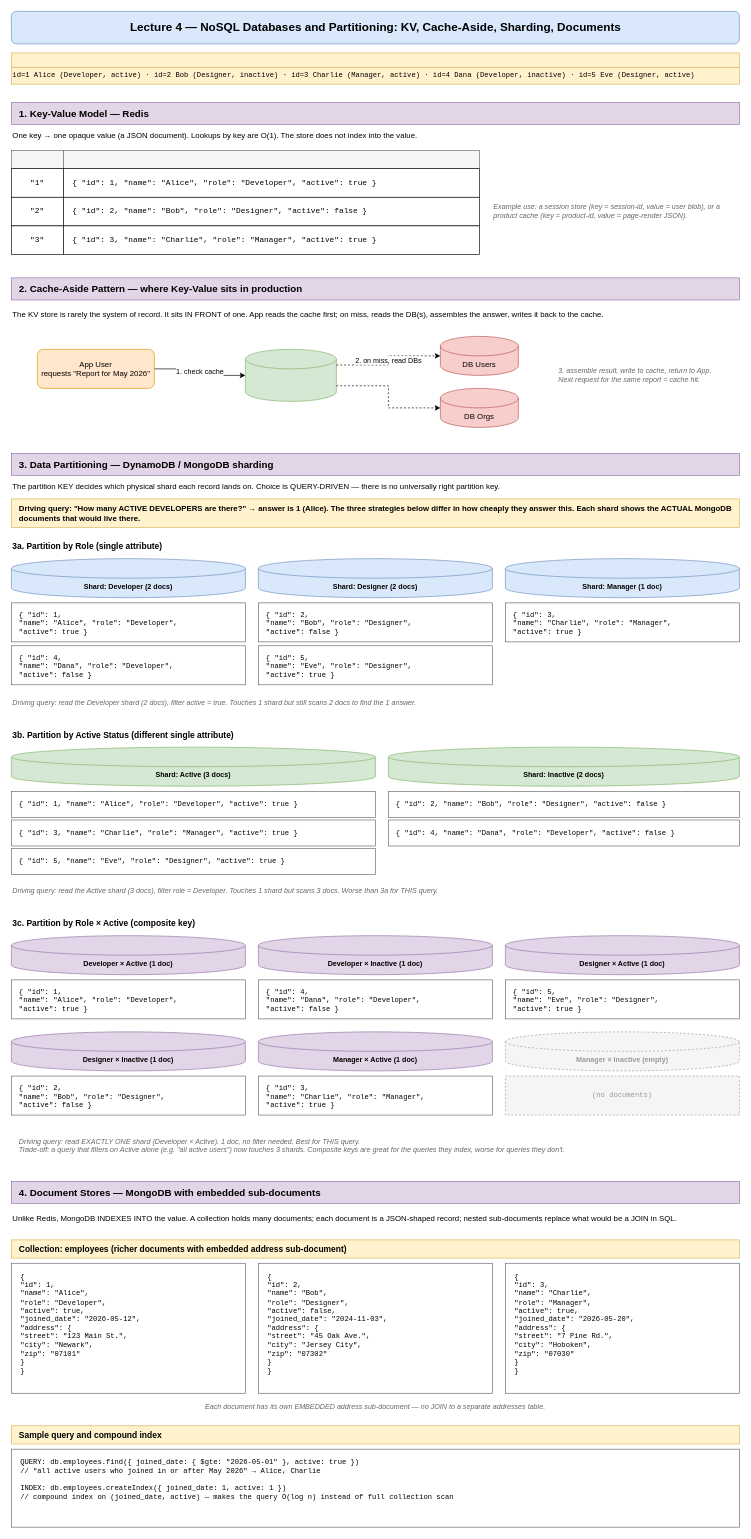
This 751x1539 diagram has some shape labels left out. Each missing label, with the centre of its shape:
"Key" goes at point (37, 159).
"Key-Value Cache (Redis)" goes at point (290, 375).
"Running example data (same employees as the file-formats diagram)" goes at point (375, 59).
"Value (JSON document)" goes at point (271, 159).
